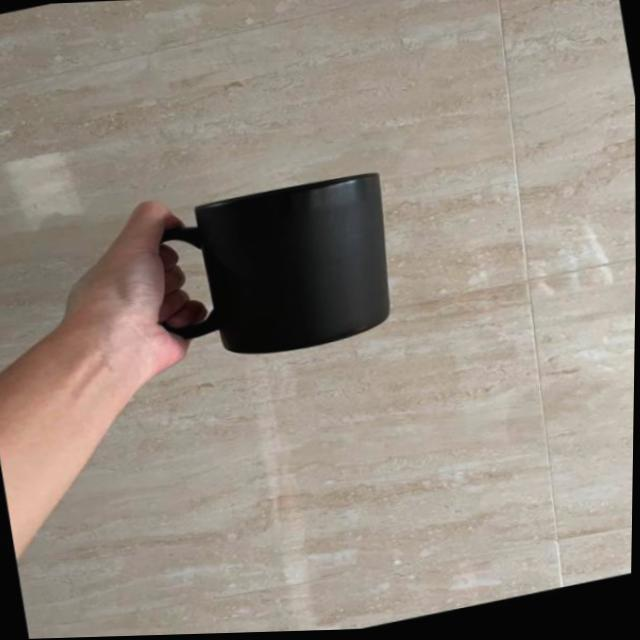cup: (379, 172, 402, 340)
